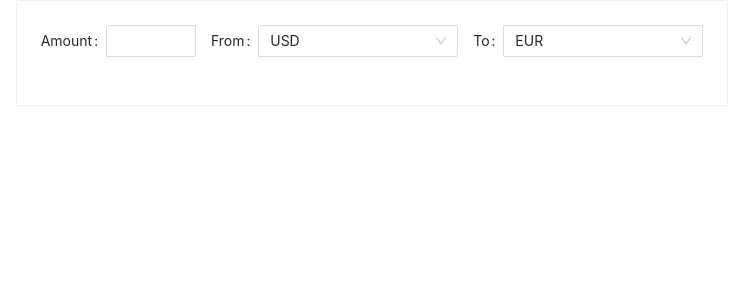
Scenario: Exchange component test › Check if shows right exchange result
In the field: (151, 41) [107,26,195,56], type "3"
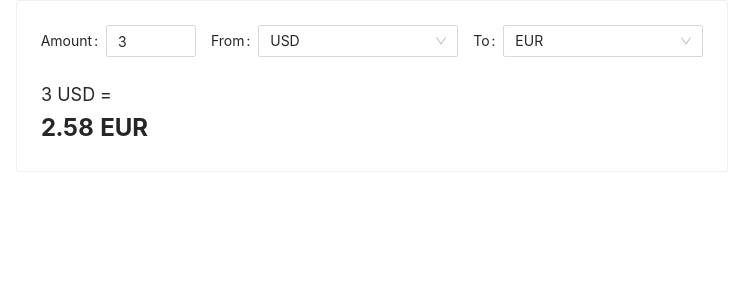
Result: the text "3 USD =" is shown at [41,84,112,105]
Result: the text "2.58 EUR" is shown at [41,113,148,142]
Press the mouse on the element showing "EUR": (603, 41) [503,25,703,57]
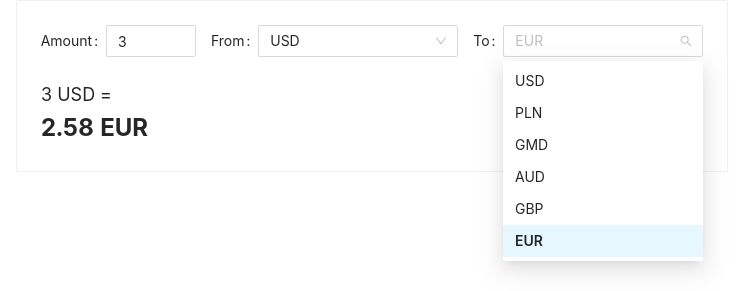
Result: the element showing "USD PLN GMD AUD GBP EUR" is shown at [503,61,703,261]
Click the text "PLN": (529, 112) [515,104,542,121]
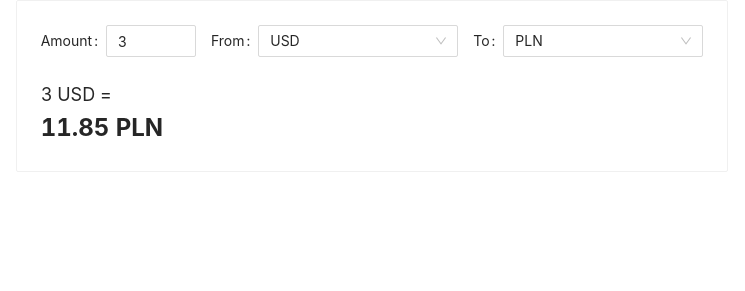
Result: the text "11.85 PLN" is shown at [41,113,163,142]
